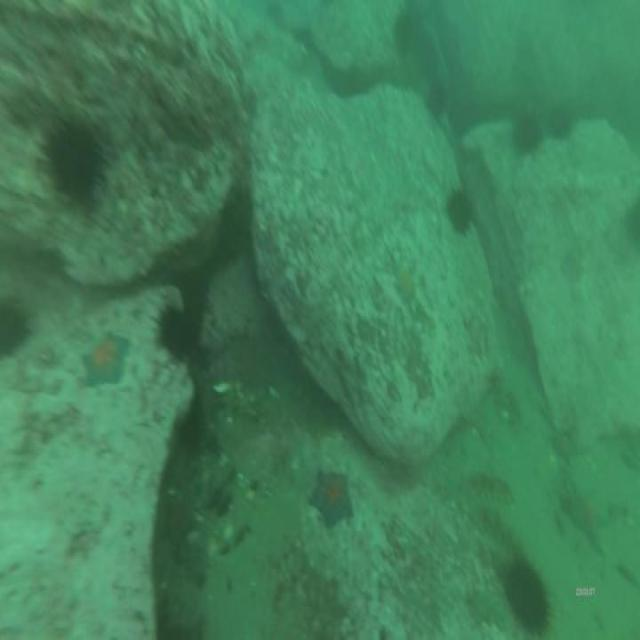echinus: (46, 126, 98, 204), (503, 559, 551, 629), (219, 182, 253, 253), (159, 306, 194, 358), (1, 300, 24, 354), (447, 188, 473, 231), (513, 120, 539, 153), (426, 79, 447, 117), (393, 14, 414, 52), (549, 108, 568, 142)
holothurian: (478, 512, 516, 553), (464, 472, 514, 502)
starfish: (306, 466, 354, 530), (84, 333, 128, 384), (572, 493, 609, 540), (395, 267, 416, 302)
